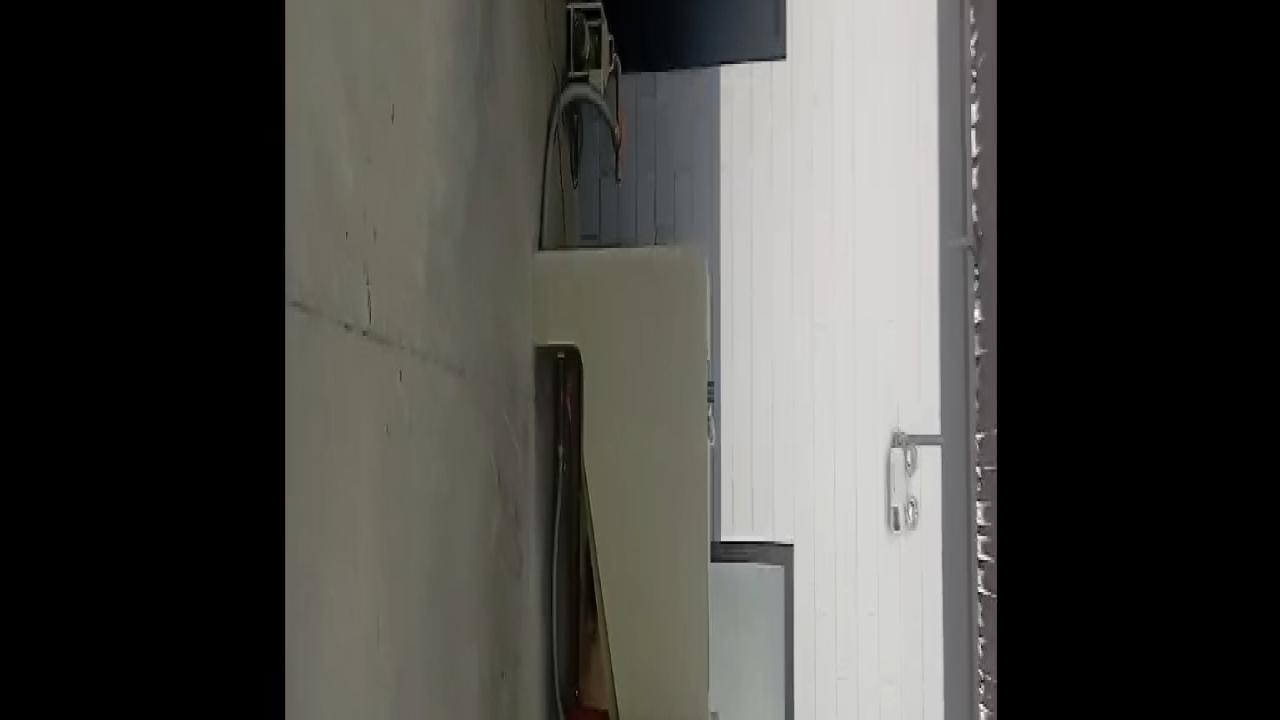Cube: (706, 379, 714, 404)
